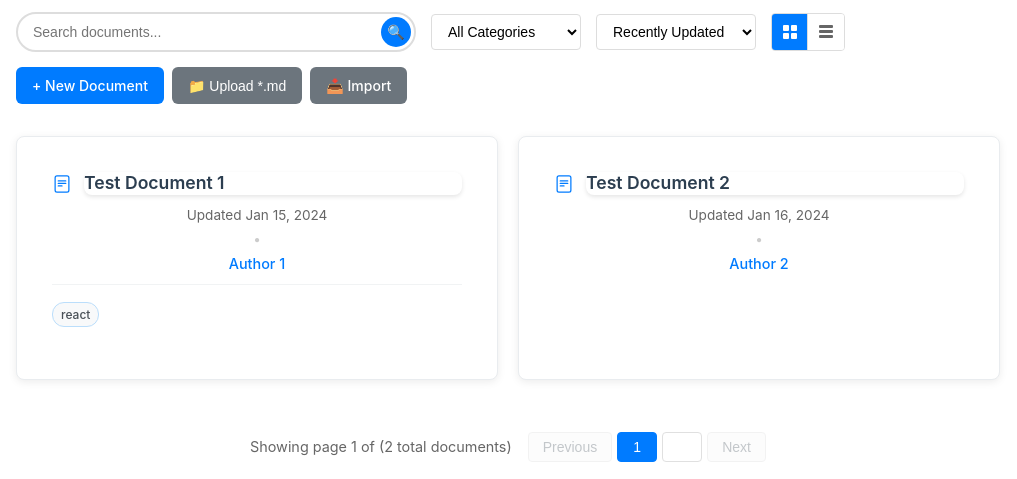
Test case: DocumentList › empty state › shows no results message when search returns empty
Expected: the heading "Test Document 1" is shown, top-left (84, 172), bottom-right (224, 193)
Note: Perform a search
In the field: (216, 32) top-left (16, 12), bottom-right (416, 52), type "test"
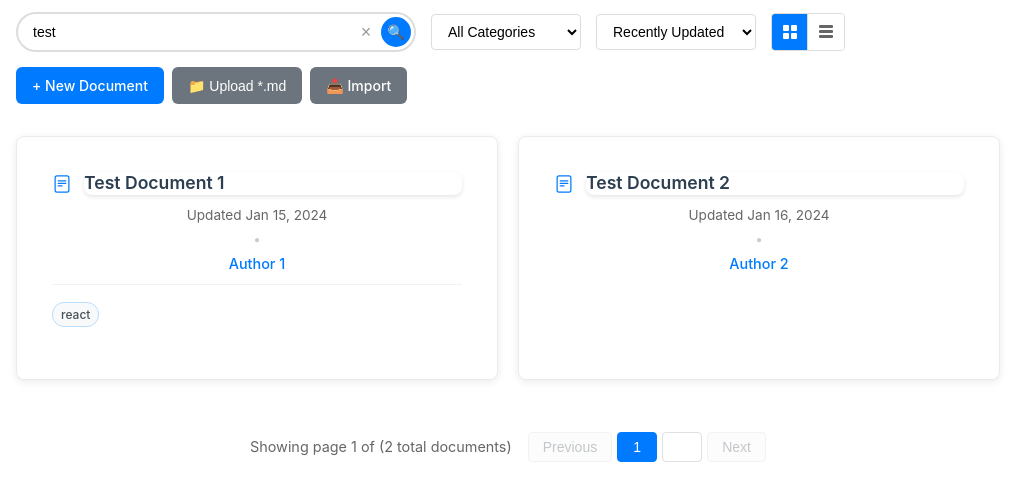
Submit the form, box top-left (16, 12), bottom-right (416, 52)
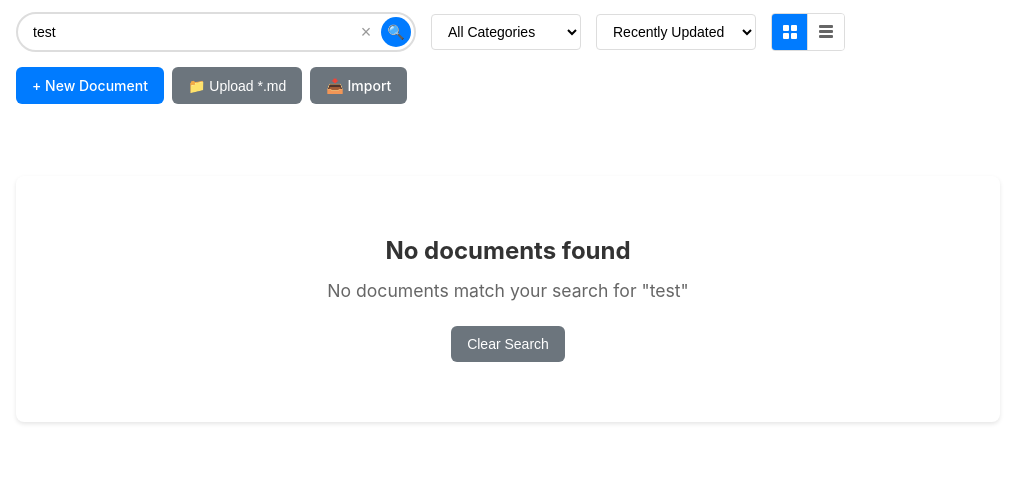
Expected: the heading "No documents found" is shown, top-left (385, 236), bottom-right (631, 265)
